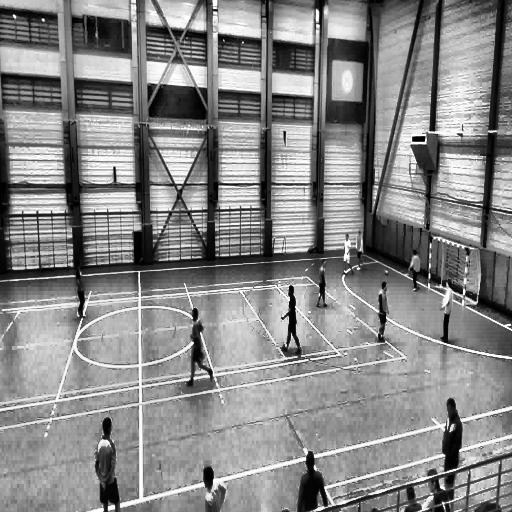ball: (382, 267, 389, 278)
player: (96, 417, 124, 512), (185, 306, 215, 387), (443, 399, 463, 508), (295, 450, 330, 512), (280, 285, 302, 357), (441, 278, 454, 342), (378, 282, 388, 344), (76, 258, 86, 318), (316, 260, 327, 308), (409, 250, 420, 292), (343, 233, 352, 274), (356, 230, 363, 272)
